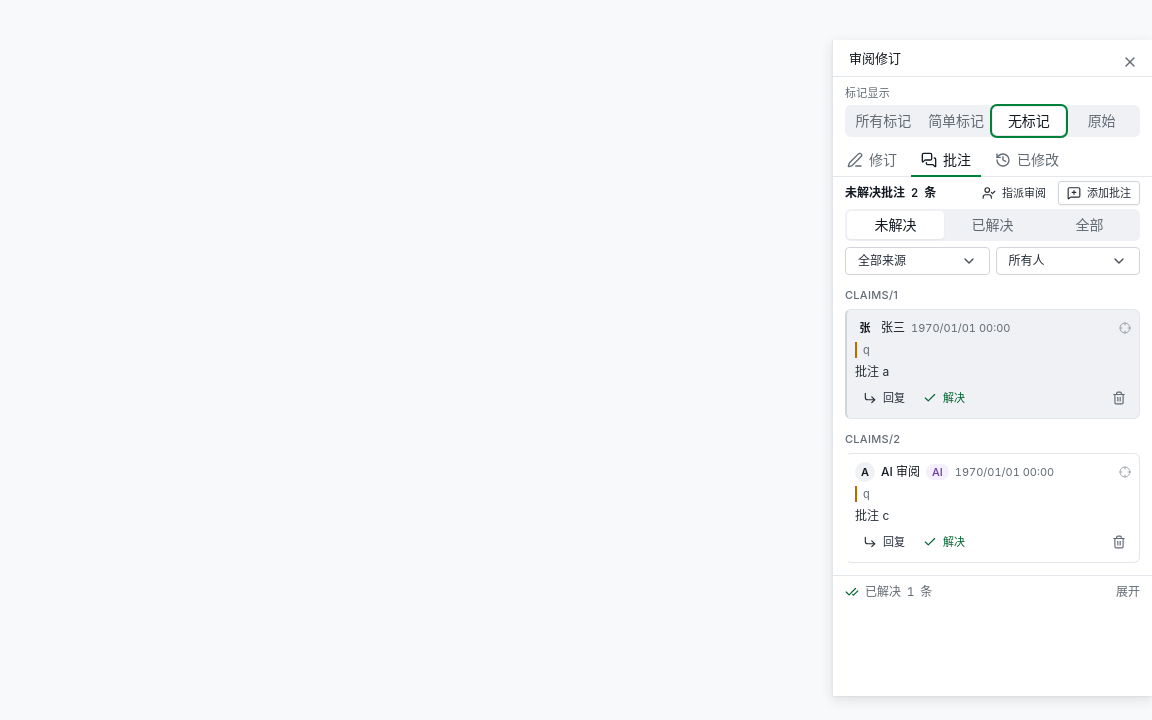
Test: ReviewDrawer 桌面（U10：右侧 320 Drawer，编辑器保持可见） › 批注筛选：默认「未解决」只列未解决并折叠已解决；切「已解决」/「全部」；来源筛选 AI 只剩 AI 批注
Expected: the button with test id "review-toggle-resolved" shows "1", [833, 576, 1151, 608]
Expected: the text "AI" is shown, [926, 464, 949, 480]
Click the radio button with test id "review-filter-resolved" at (992, 225), box [944, 211, 1041, 239]
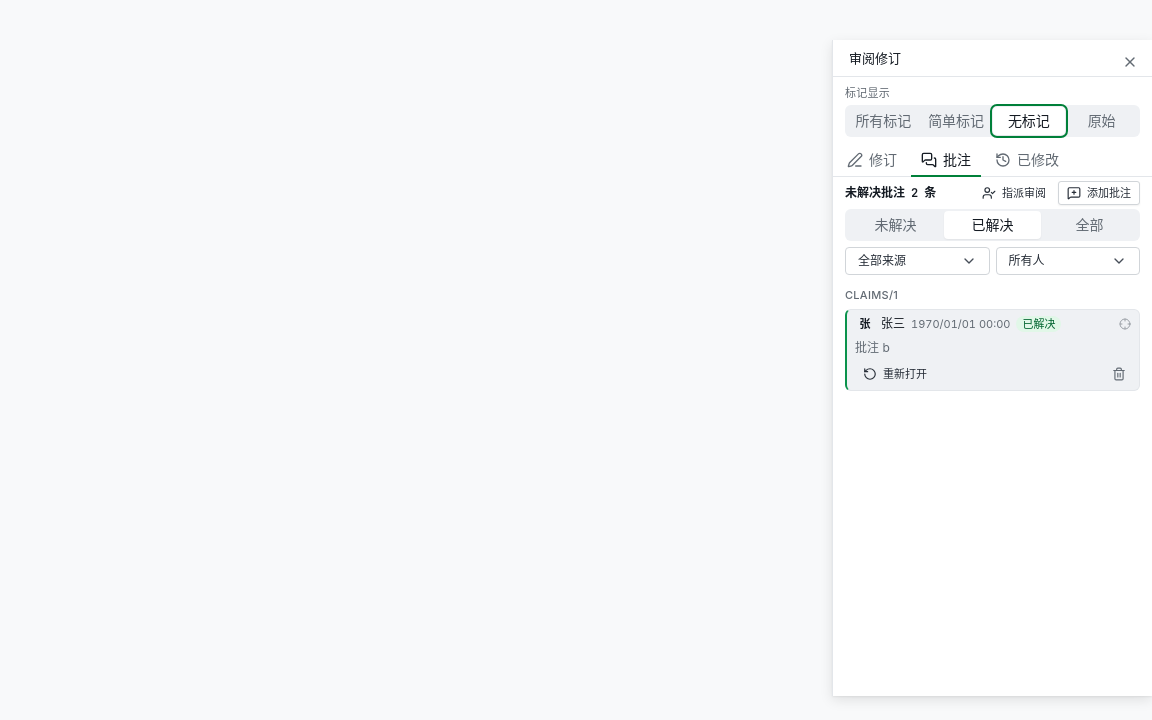
Click the radio button with test id "review-filter-all" at (1090, 225), box [1041, 211, 1138, 239]
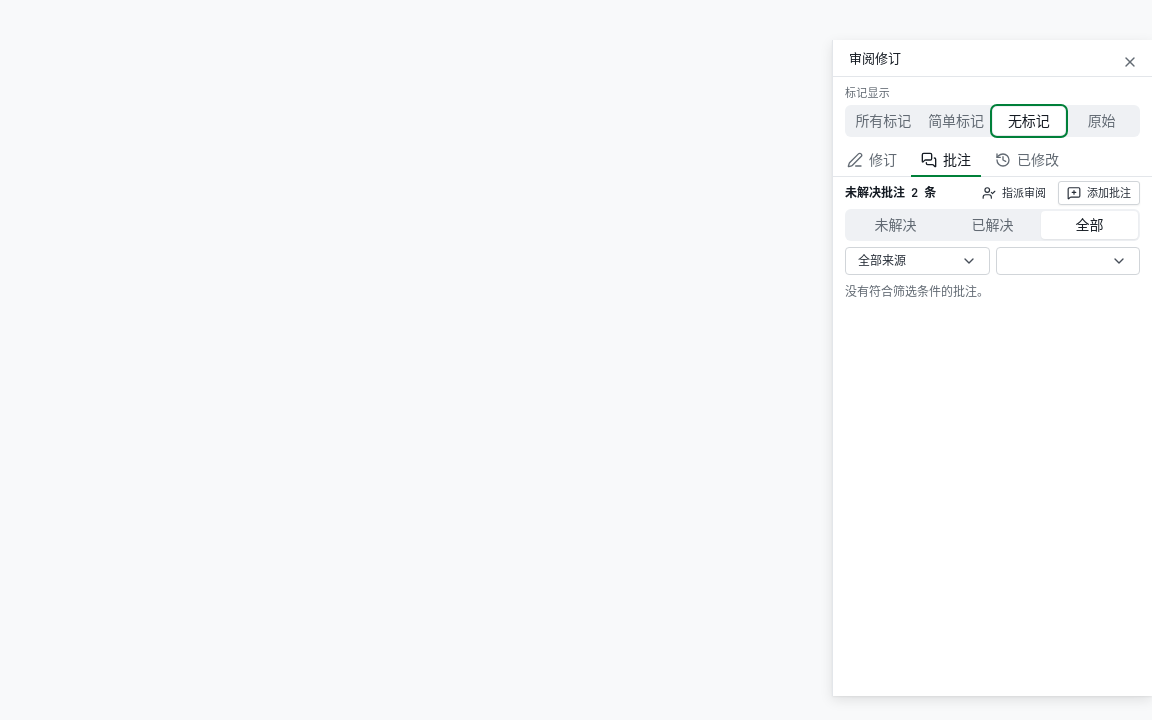
Now the text "没有符合筛选条件的批注。" is shown, box [845, 284, 989, 299]
